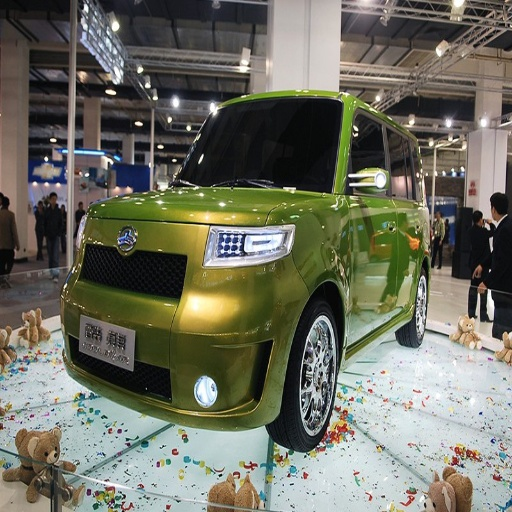back_bumper: (207, 293, 299, 403)
back_glass: (182, 100, 324, 183)
back_right_light: (200, 226, 291, 286)
tailgate: (139, 231, 223, 303), (163, 186, 244, 224)
trunk: (100, 192, 297, 252), (139, 273, 225, 337)
